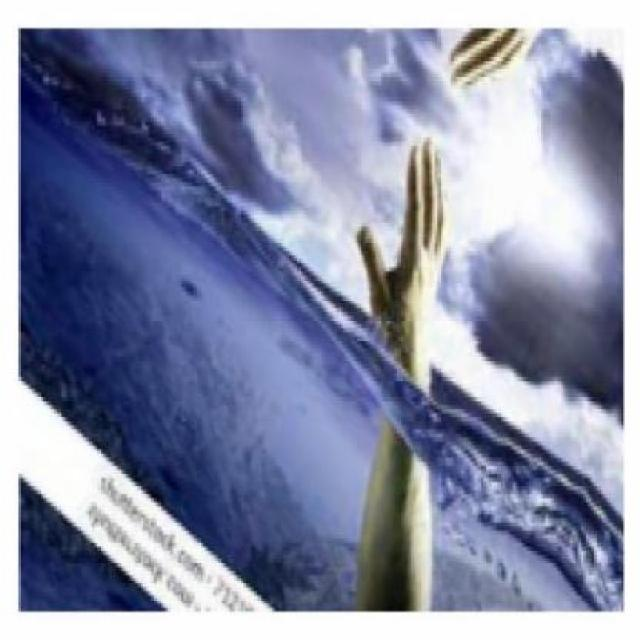drowning: (338, 143, 447, 640)
